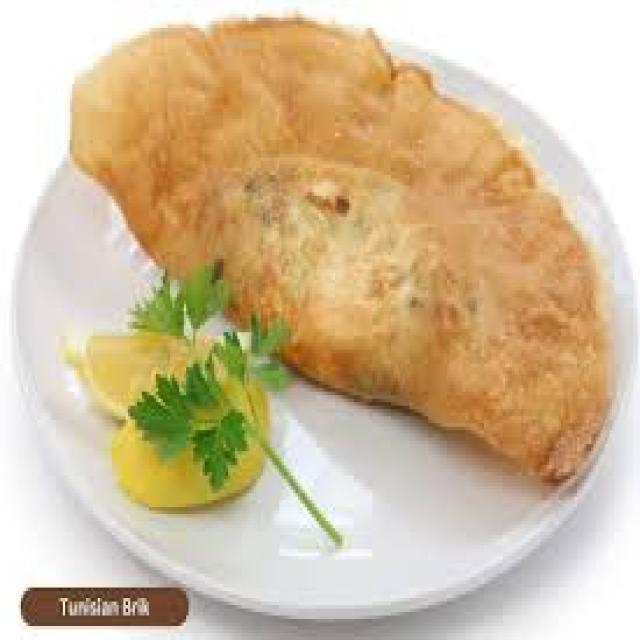Brik: (75, 19, 607, 480)
